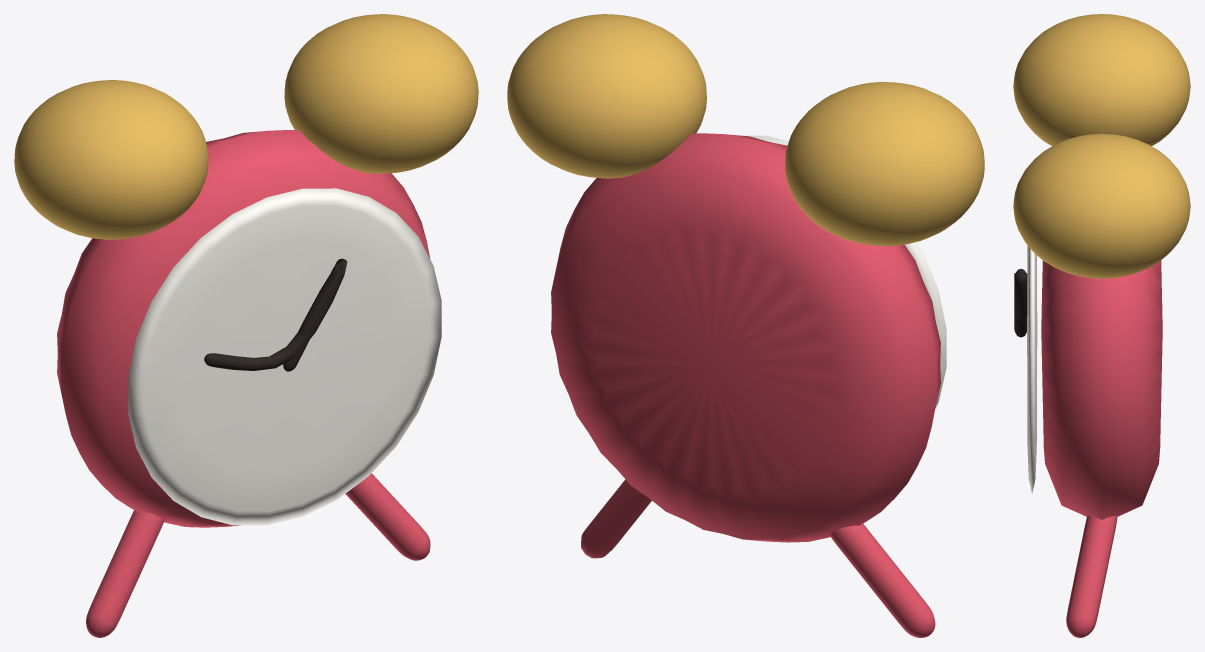
File: deco_despertador.glb
The picture shows the model from 3 angles, left to right: view 1: azimuth 30°, elevation 25°; view 2: azimuth 150°, elevation 25°; view 3: azimuth 270°, elevation 25°; orthographic projection. The views are drawn at different scales.
Visible parts, largest first — view 1: cara despertador.001, cuerpo despertador.001, campana -1.001, campana 1.001, pata -1.001, pata 1.001, agujas.001; view 2: cuerpo despertador.001, campana -1.001, campana 1.001, pata -1.001, pata 1.001, cara despertador.001; view 3: cuerpo despertador.001, campana 1.001, campana -1.001, pata 1.001, cara despertador.001, agujas.001.
Part boxes in pixels (x1,y1,x2,y2): cara despertador.001: (128,188,441,525); cuerpo despertador.001: (57,130,430,527); campana -1.001: (14,80,208,239); campana 1.001: (284,14,478,173); pata -1.001: (86,510,164,637); pata 1.001: (345,473,430,560); agujas.001: (204,258,347,371); cuerpo despertador.001: (551,133,940,542); campana -1.001: (785,81,984,246); campana 1.001: (507,14,706,178); pata -1.001: (829,524,935,637); pata 1.001: (581,479,651,558); cara despertador.001: (743,135,946,408); cuerpo despertador.001: (1041,260,1162,519); campana 1.001: (1013,133,1190,278); campana -1.001: (1013,14,1190,145); pata 1.001: (1066,515,1117,637); cara despertador.001: (1027,245,1037,493); agujas.001: (1014,269,1027,337).
Bounding box in the file's own units: 0.2276 × 0.2631 × 0.0876.
